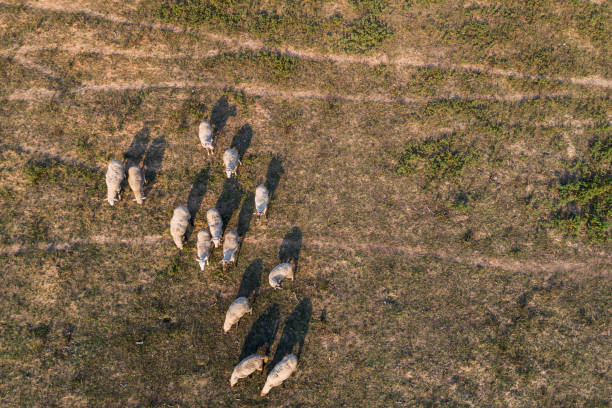sheep: (213, 294, 255, 333), (261, 349, 296, 392), (226, 354, 267, 388), (242, 181, 273, 225), (168, 202, 194, 254), (104, 161, 134, 203), (194, 118, 219, 162), (263, 259, 294, 292), (125, 162, 148, 205), (216, 142, 241, 181), (205, 207, 227, 250), (191, 229, 213, 271), (220, 231, 241, 270)
